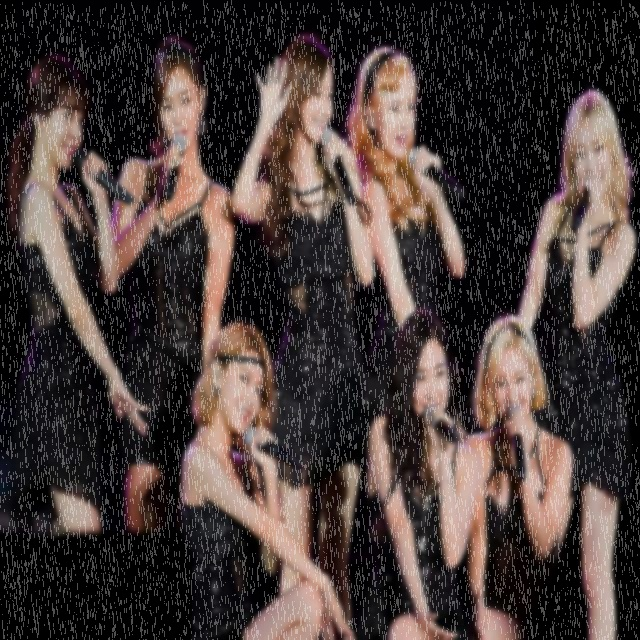pessoa: (224, 33, 376, 640), (6, 54, 150, 532), (515, 88, 635, 640), (110, 32, 236, 538), (176, 318, 355, 640), (345, 44, 467, 366), (454, 312, 574, 639), (363, 308, 480, 640)
